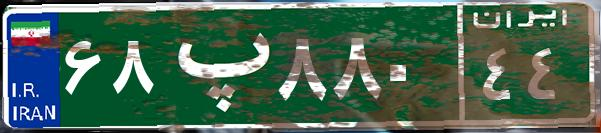0: (385, 28, 445, 110)
4: (475, 38, 525, 113), (525, 38, 570, 115)
6: (57, 26, 110, 107)
8: (273, 28, 330, 110), (330, 28, 385, 110), (110, 28, 158, 105)
پ: (158, 15, 273, 115)
